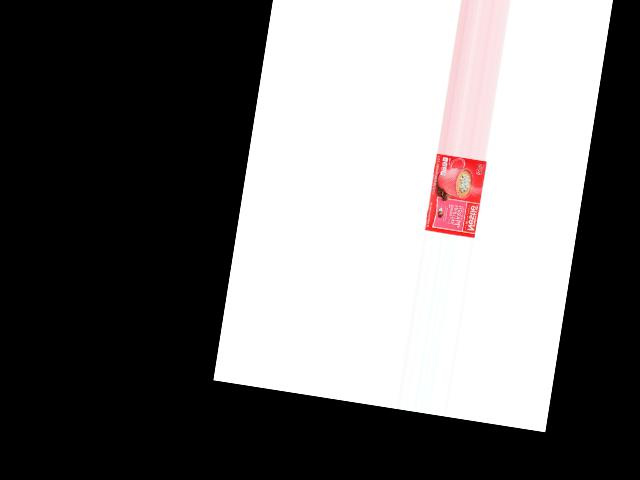chocolate: (422, 152, 485, 235)
